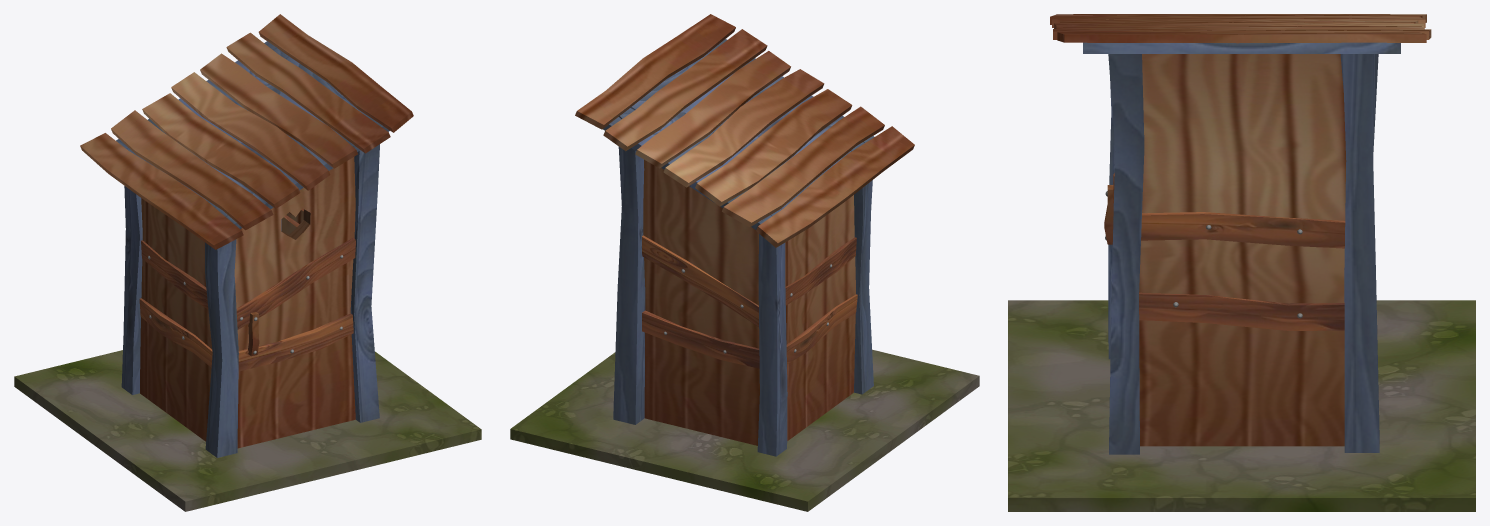
File: baño.glb
3 renders of one model, left to right at view 1: azimuth 30°, elevation 25°; view 2: azimuth 150°, elevation 25°; view 3: azimuth 270°, elevation 25°, orthographic. The views are drawn at different scales.
Visible parts, largest first — view 1: Object_2; view 2: Object_2; view 3: Object_2.
Boxes of the visible parts, x1,y1,x2,y2 form: Object_2: [14, 14, 481, 511]; Object_2: [510, 14, 979, 511]; Object_2: [1008, 14, 1475, 511].
Bounding box in the file's own units: 1 × 1.05 × 1.
1 material, 1 textured.
